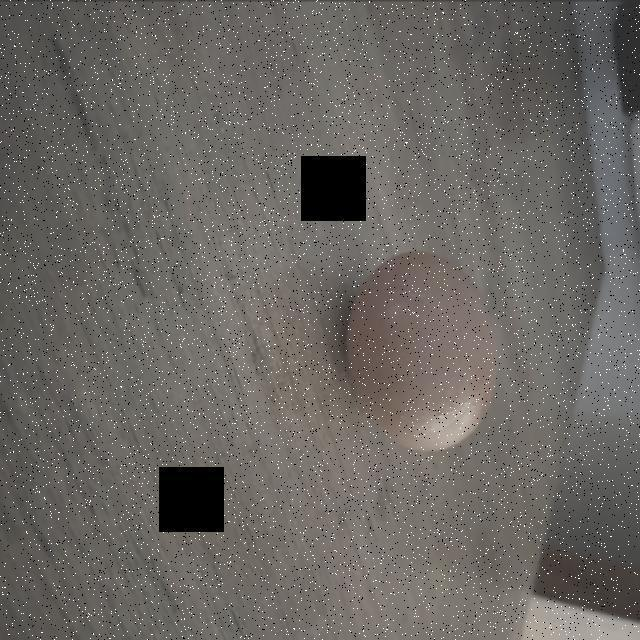egg: (345, 248, 503, 461)
